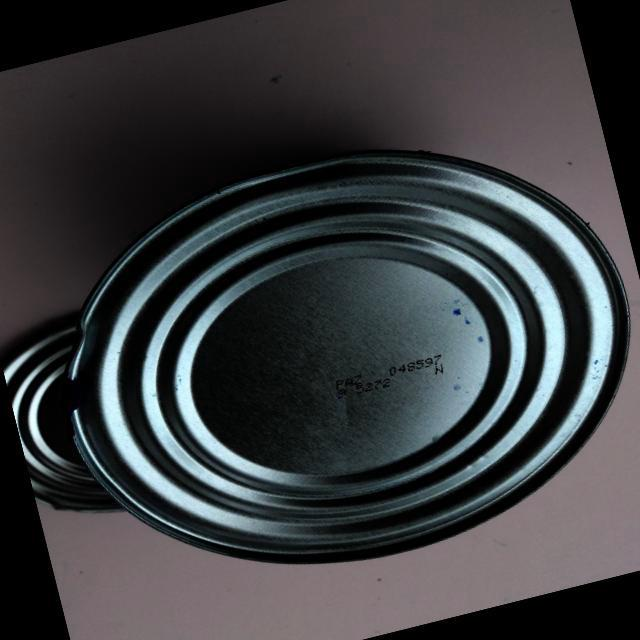metal: (0, 73, 640, 640)
